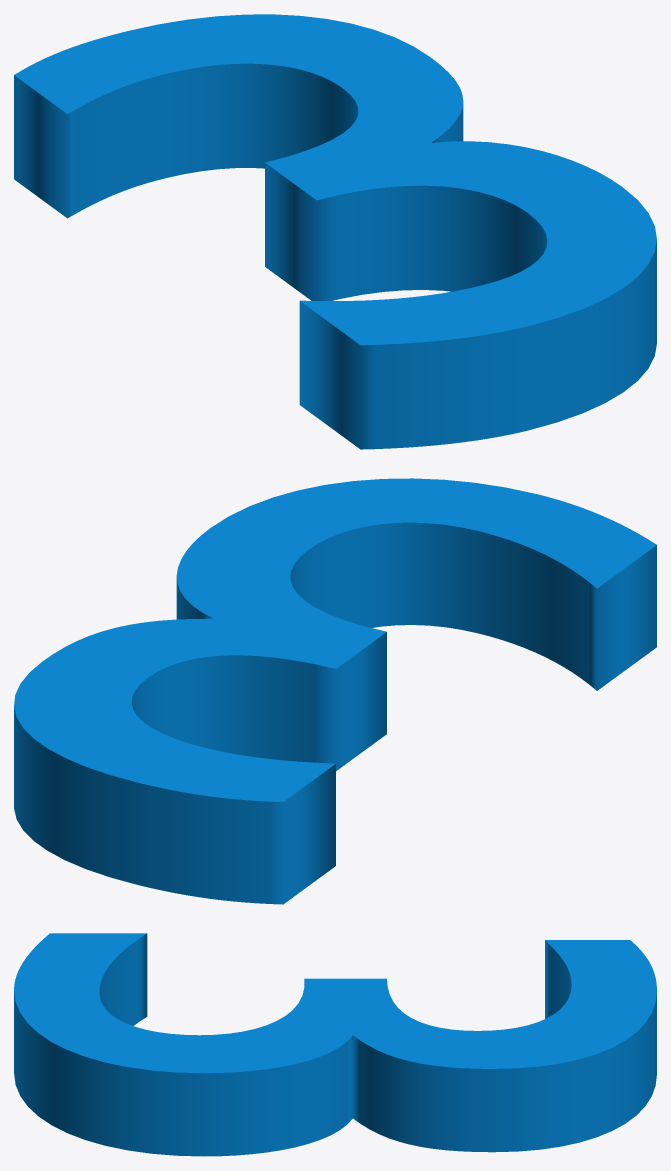
The model's file is Three.fbx.
3 renders of one model, top to bottom at view 1: azimuth 30°, elevation 25°; view 2: azimuth 150°, elevation 25°; view 3: azimuth 270°, elevation 25°, orthographic. The views are drawn at different scales.
Parts seen in each view (by area): view 1: Three; view 2: Three; view 3: Three.
Boxes of the visible parts, x1,y1,x2,y2 form: Three: (14, 14, 656, 449); Three: (14, 478, 656, 904); Three: (14, 933, 656, 1156).
Size of the model in its own units: 140 by 20 by 72.
